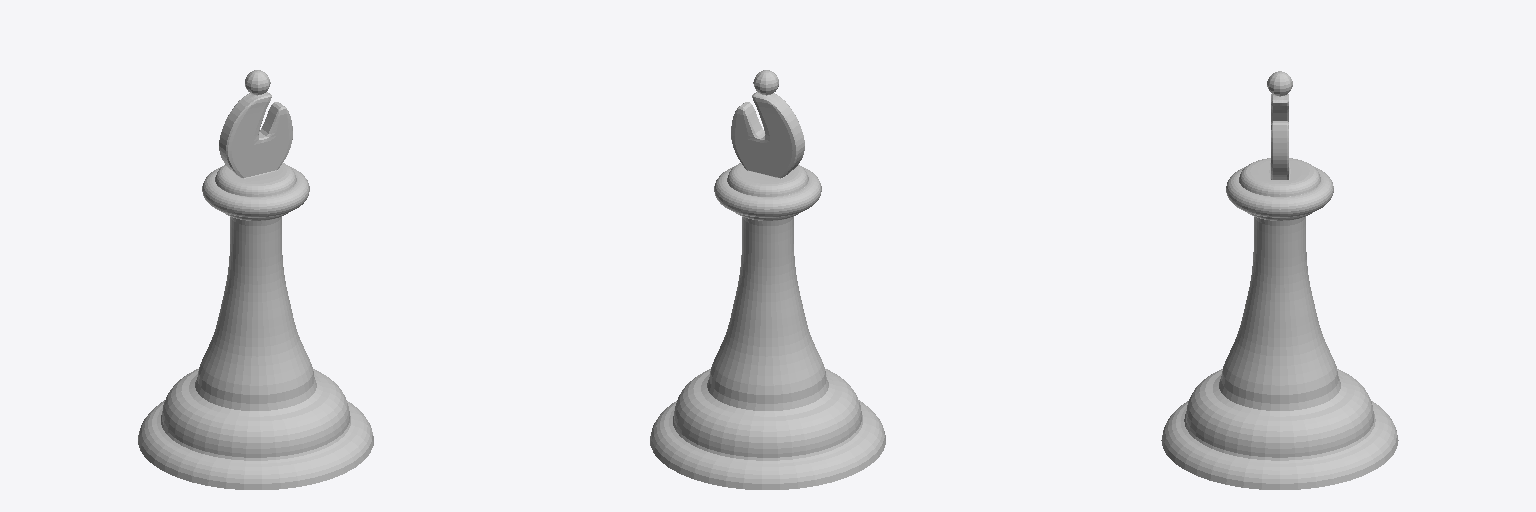
The model's file is finaldiagonalnear.obj.
3 views of the same model, side by side, from view 1: azimuth 30°, elevation 25°; view 2: azimuth 150°, elevation 25°; view 3: azimuth 270°, elevation 25° (orthographic).
Visible parts, largest first — view 1: black_bishop2_Mesh.001; view 2: black_bishop2_Mesh.001; view 3: black_bishop2_Mesh.001.
Boxes of the visible parts, <box> form: black_bishop2_Mesh.001: <box>138,70,373,489</box>; black_bishop2_Mesh.001: <box>650,70,885,489</box>; black_bishop2_Mesh.001: <box>1161,71,1398,489</box>.
Bounding box in the file's own units: 0.4965 × 0.8558 × 0.4984.